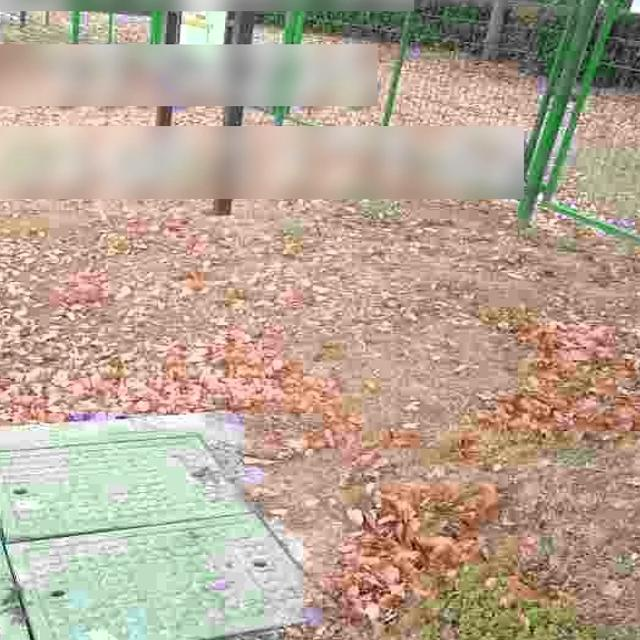good: (0, 428, 355, 640)
